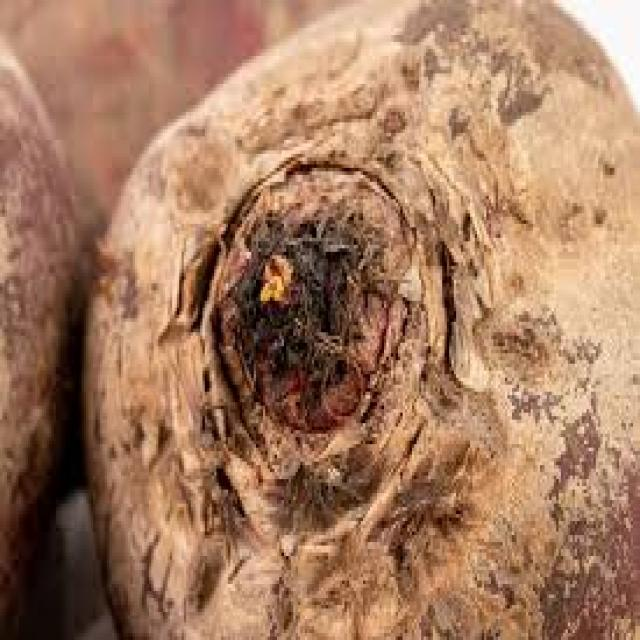organic waste: (79, 0, 638, 637), (0, 0, 347, 248), (0, 0, 81, 636)
